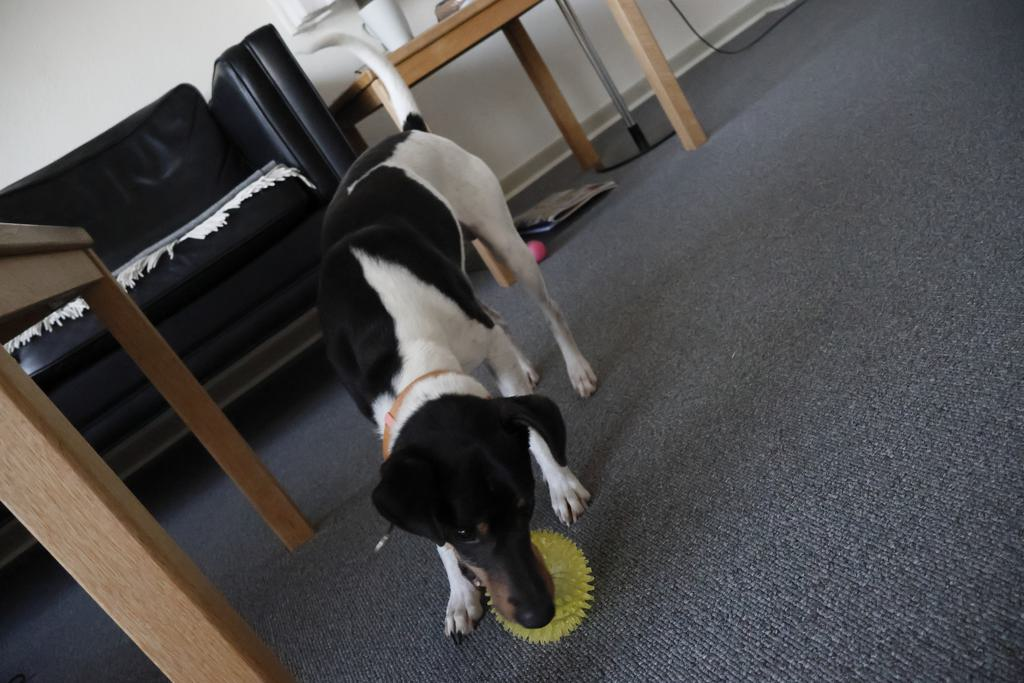Dog: (274, 16, 614, 651)
